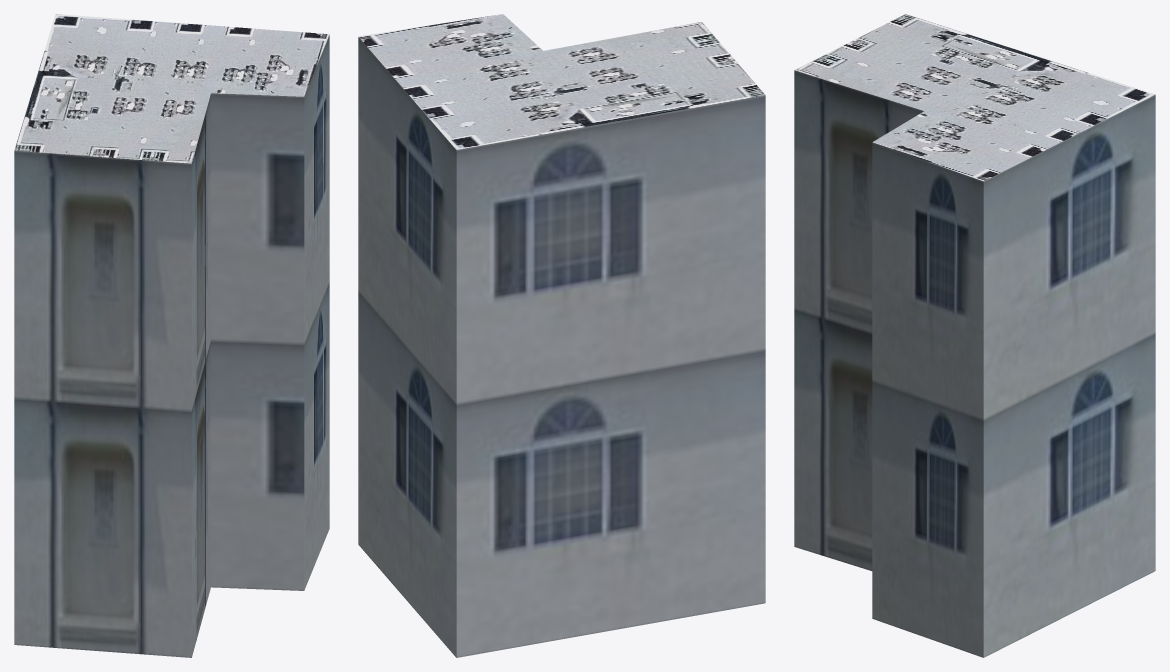
The model's file is ResTex__1753.fbx.
3 renders of one model, left to right at view 1: azimuth 30°, elevation 25°; view 2: azimuth 150°, elevation 25°; view 3: azimuth 270°, elevation 25°, orthographic. The views are drawn at different scales.
Parts seen in each view (by area): view 1: CityEngineMaterial_17_m, CityEngineMaterial_4_m; view 2: CityEngineMaterial_17_m, CityEngineMaterial_4_m; view 3: CityEngineMaterial_17_m, CityEngineMaterial_4_m.
Part boxes in pixels (x1,y1,x2,y2): CityEngineMaterial_17_m: (14,35,329,657); CityEngineMaterial_4_m: (14,14,329,163); CityEngineMaterial_17_m: (358,37,765,657); CityEngineMaterial_4_m: (358,14,765,149); CityEngineMaterial_17_m: (794,70,1155,657); CityEngineMaterial_4_m: (794,14,1155,181).
Bounding box in the file's own units: 4.52 × 6 × 4.13.
Materials: 2 (2 with a texture image).
